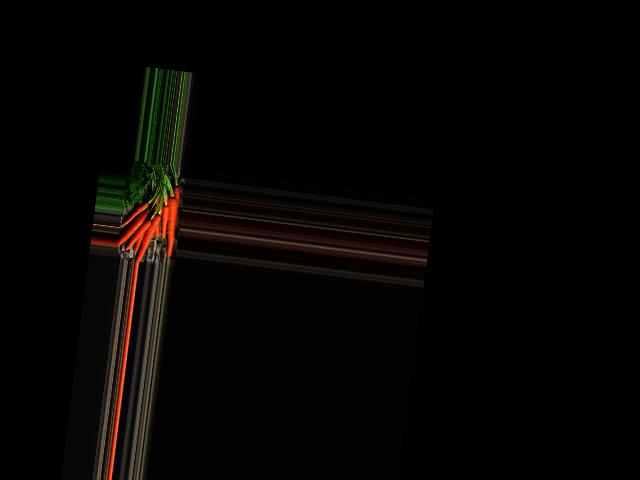carrot: (121, 197, 148, 227)
